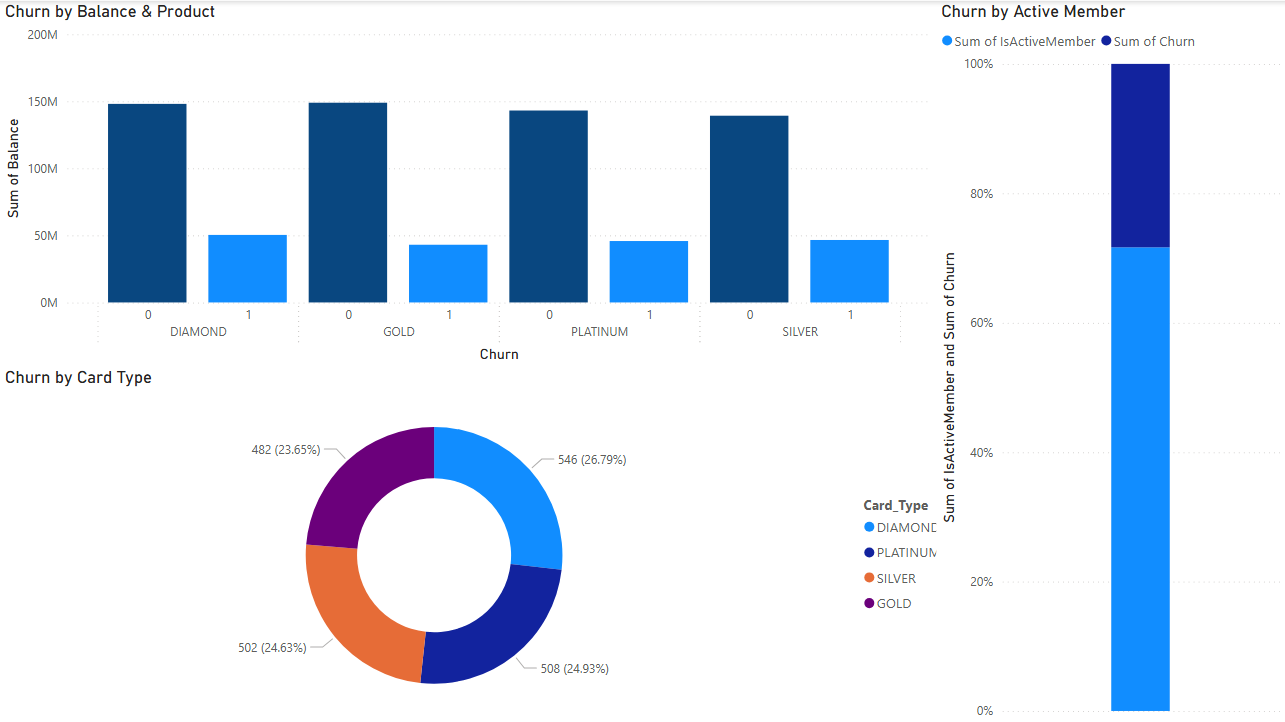

What the dashboard file says about the page in this screenshot:
{"tool":"powerbi","page":{"name":"Page 2","canvas":[1280,720],"ordinal":1},"visuals":[{"type":"donutChart","title":"Churn by Card Type","fields":{"Category":["CustomerChurn.Card_Type"],"Y":["Sum(CustomerChurn.Churn)"]},"box":[0,365,950.5,355.6],"z":3000},{"type":"clusteredColumnChart","title":"Churn by Balance & Product ","fields":{"Category":["CustomerChurn.Card_Type","CustomerChurn.Churn"],"Y":["Sum(CustomerChurn.Balance)"]},"box":[0,0,931.6,365],"z":3003},{"type":"hundredPercentStackedColumnChart","title":"Churn by Active Member","fields":{"Y":["Sum(CustomerChurn.IsActiveMember)","Sum(CustomerChurn.Churn)"]},"box":[931.6,0,348.4,720.6],"z":3004}]}

Visuals, with their boxes in screenshot pixels (x1, y1, x2, y2), scaled from the page's 1280x720 canvas onto the 1285x722 screenshot:
"Churn by Card Type" donutChart: Rect(0, 366, 954, 721)
"Churn by Balance & Product " clusteredColumnChart: Rect(0, 0, 935, 366)
"Churn by Active Member" hundredPercentStackedColumnChart: Rect(935, 0, 1284, 721)
